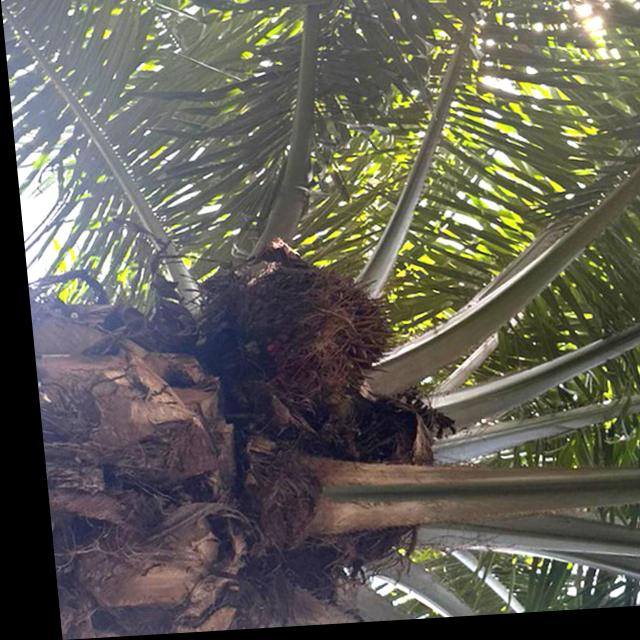ripe: (204, 245, 406, 428)
